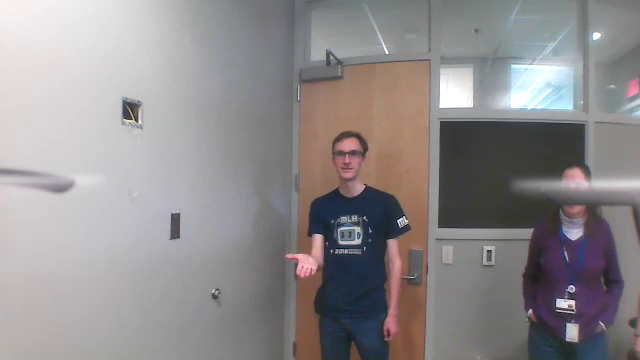land: (281, 248, 325, 285)
